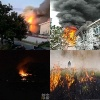fire: (50, 63, 96, 91), (64, 27, 77, 46), (28, 17, 35, 31), (19, 69, 29, 77)
